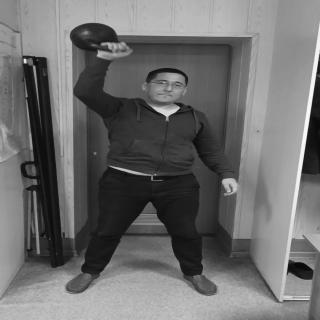kettlebell: (73, 24, 130, 55)
